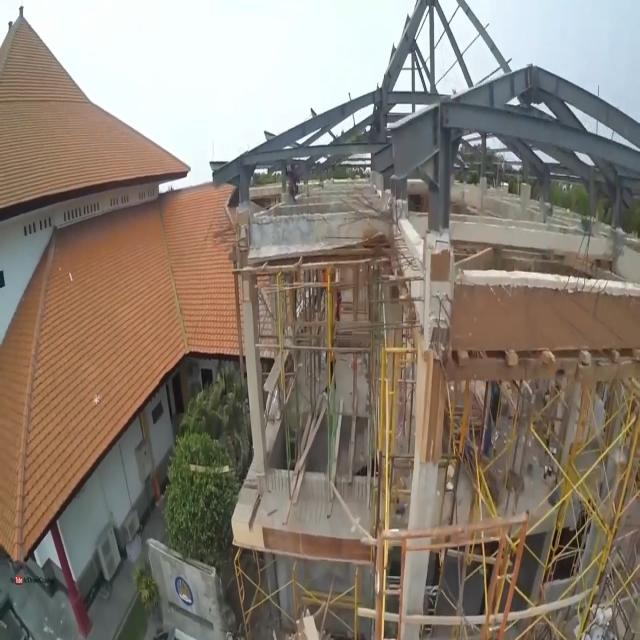Building: (233, 18, 626, 640), (5, 40, 197, 593)
Tree: (168, 397, 244, 559)
